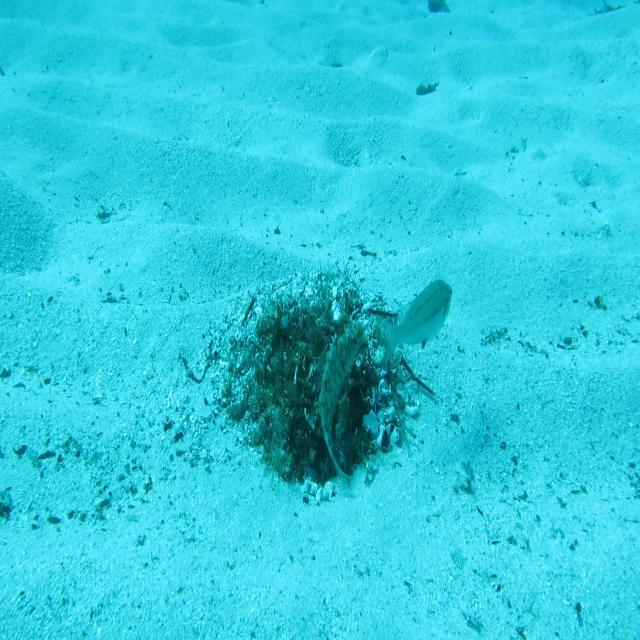LF: (316, 318, 366, 487)
core_nest: (284, 321, 329, 354)
female: (380, 275, 453, 370)
nest: (212, 256, 424, 511)
vegetation: (412, 79, 441, 95)
